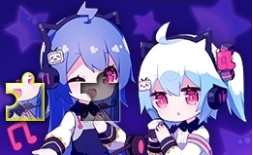gap: (81, 73, 119, 120)
